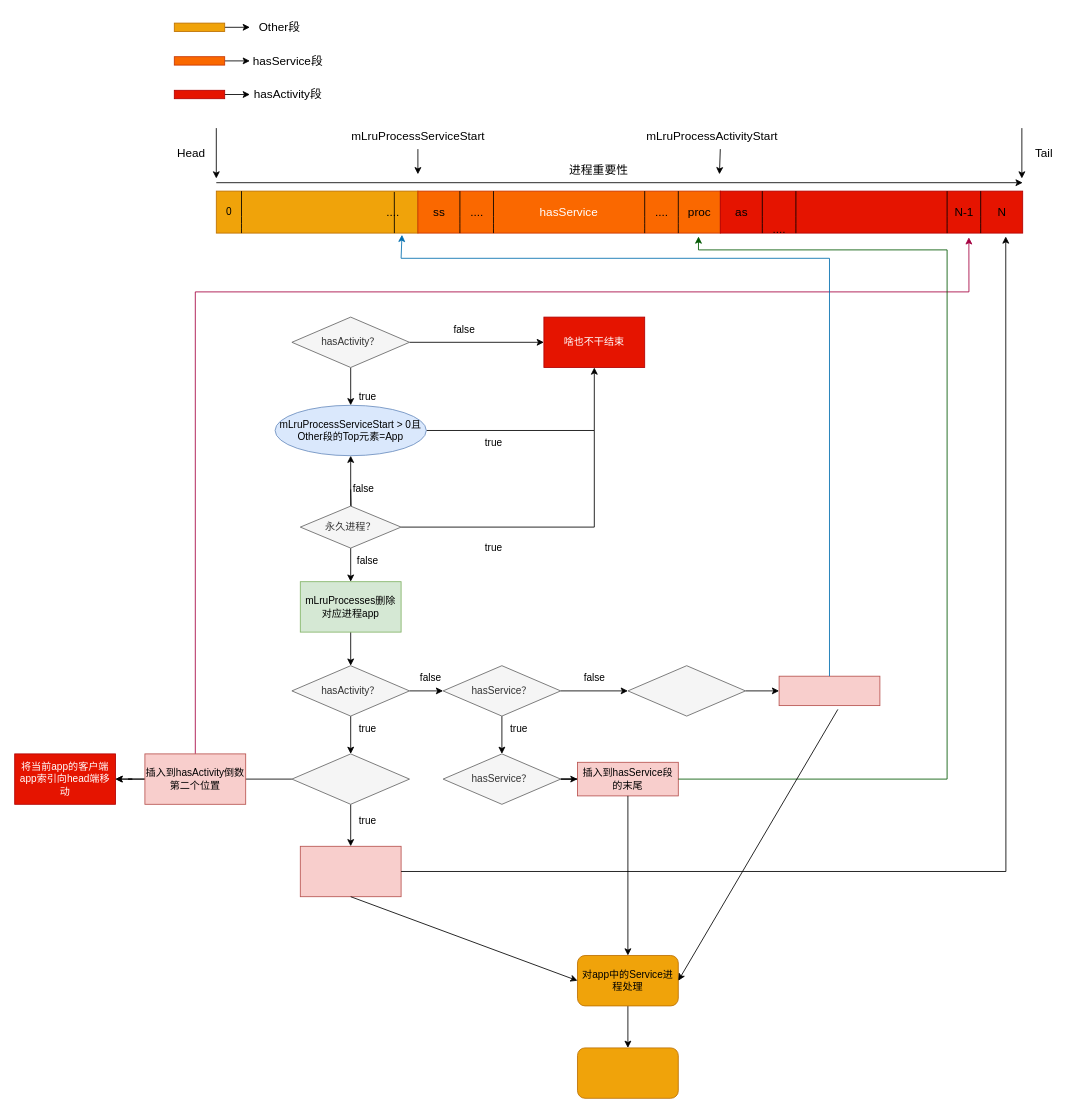
This 1079x1113 diagram has some shape labels left out. Here are the shapes that lost their labels. From the top down, the box of each, then its label:
(215, 190, 418, 233): Other
(719, 190, 1023, 233): hasActivity
(627, 665, 746, 716): Other？
(778, 675, 880, 706): 插入到Other段的末尾
(291, 753, 410, 804): app.activities.size=0
(299, 845, 401, 897): 插入到末尾
(577, 1047, 678, 1098): 对app中的Provider进程处理
